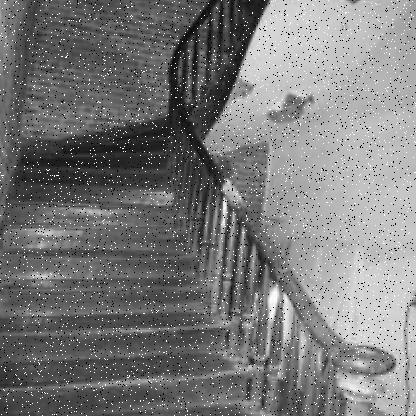stair_up: (0, 256, 238, 416)
